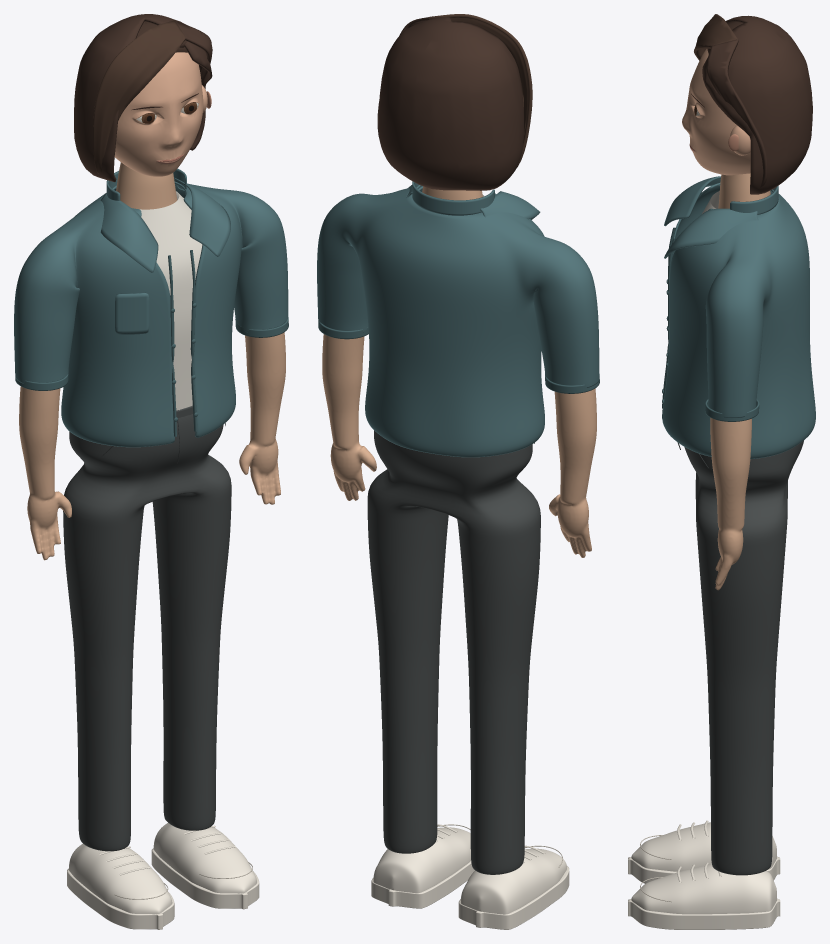
File: female-base-e.glb
The picture shows the model from 3 angles, left to right: view 1: azimuth 30°, elevation 25°; view 2: azimuth 150°, elevation 25°; view 3: azimuth 270°, elevation 25°; orthographic projection. The views are drawn at different scales.
Parts seen in each view (by area): view 1: Female · continuous trousers | E retopology | export, Female · continuous tailored overshirt | E base | export, Female V3 · face with connected eyelids and lips [static hea, Female · continuous forearm hand fingers | E base | export, Female V3 · rounded bob back with ear tuck [static head] | e, Female · continuous forearm hand fingers.001 | E base | expo, Female · inner tee | E base | export, Female V3 · side-swept fringe [static head] | export, Female · shaped sneaker upper.001 | E base | export, Female · shaped sneaker upper | E base | export, Female · folded collar | E base | export, Female · shaped neck | E base | export (+7 smaller); view 2: Female · continuous tailored overshirt | E base | export, Female · continuous trousers | E retopology | export, Female V3 · rounded bob back with ear tuck [static head] | e, Female · continuous forearm hand fingers.001 | E base | expo, Female · continuous forearm hand fingers | E base | export, Female · shaped sneaker upper | E base | export, Female · shaped sneaker upper.001 | E base | export, Female · rubber outsole | E base | export, Female V3 · side-swept fringe [static head] | export, Female · rubber outsole.001 | E base | export, Female · back collar band | E base | export, Female · folded collar | E base | export; view 3: Female · continuous tailored overshirt | E base | export, Female · continuous trousers | E retopology | export, Female V3 · rounded bob back with ear tuck [static head] | e, Female · shaped sneaker upper.001 | E base | export, Female · continuous forearm hand fingers.001 | E base | expo, Female V3 · face with connected eyelids and lips [static hea, Female · shaped sneaker upper | E base | export, Female · rubber outsole.001 | E base | export, Female V3 · tucked temple section [static head] | export, Female · folded collar.001 | E base | export, Female · shaped neck | E base | export, Female · folded collar | E base | export (+4 smaller).
Part boxes in pixels (<box>): Female · continuous trousers | E retopology | export: <box>63,414,231,851</box>; Female · continuous tailored overshirt | E base | export: <box>14,181,288,447</box>; Female V3 · face with connected eyelids and lips [static hea: <box>114,52,203,176</box>; Female · continuous forearm hand fingers | E base | export: <box>19,386,71,560</box>; Female V3 · rounded bob back with ear tuck [static head] | e: <box>74,14,212,182</box>; Female · continuous forearm hand fingers.001 | E base | expo: <box>239,332,285,504</box>; Female · inner tee | E base | export: <box>140,191,202,410</box>; Female V3 · side-swept fringe [static head] | export: <box>93,20,185,173</box>; Female · shaped sneaker upper.001 | E base | export: <box>153,823,256,893</box>; Female · shaped sneaker upper | E base | export: <box>68,844,172,914</box>; Female · folded collar | E base | export: <box>100,193,158,272</box>; Female · shaped neck | E base | export: <box>116,161,177,209</box>; Female · continuous tailored overshirt | E base | export: <box>317,186,599,457</box>; Female · continuous trousers | E retopology | export: <box>367,430,540,874</box>; Female V3 · rounded bob back with ear tuck [static head] | e: <box>379,17,523,190</box>; Female · continuous forearm hand fingers.001 | E base | expo: <box>322,334,376,500</box>; Female · continuous forearm hand fingers | E base | export: <box>549,388,596,557</box>; Female · shaped sneaker upper | E base | export: <box>460,848,566,914</box>; Female · shaped sneaker upper.001 | E base | export: <box>373,827,470,893</box>; Female · rubber outsole | E base | export: <box>458,865,569,929</box>; Female V3 · side-swept fringe [static head] | export: <box>430,14,532,168</box>; Female · rubber outsole.001 | E base | export: <box>371,861,474,908</box>; Female · back collar band | E base | export: <box>412,181,494,215</box>; Female · folded collar | E base | export: <box>480,191,540,219</box>; Female · continuous tailored overshirt | E base | export: <box>662,182,815,459</box>; Female · continuous trousers | E retopology | export: <box>684,440,803,875</box>; Female V3 · rounded bob back with ear tuck [static head] | e: <box>702,15,812,194</box>; Female · shaped sneaker upper.001 | E base | export: <box>631,864,776,914</box>; Female · continuous forearm hand fingers.001 | E base | expo: <box>710,418,751,590</box>; Female V3 · face with connected eyelids and lips [static hea: <box>682,49,750,175</box>; Female · shaped sneaker upper | E base | export: <box>631,822,776,871</box>; Female · rubber outsole.001 | E base | export: <box>628,898,780,929</box>; Female V3 · tucked temple section [static head] | export: <box>706,39,767,193</box>; Female · folded collar.001 | E base | export: <box>664,208,758,258</box>; Female · shaped neck | E base | export: <box>718,173,770,208</box>; Female · folded collar | E base | export: <box>664,176,720,226</box>.
Size of the model in its own units: 0.5586 by 1.72 by 0.3352.
